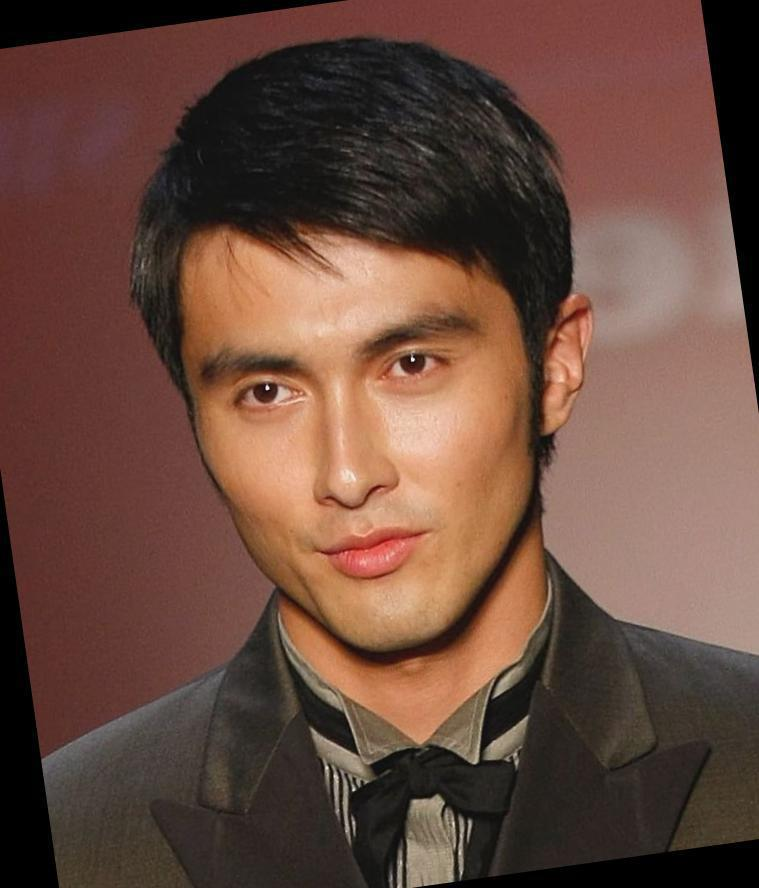Sober: (177, 258, 528, 636)
